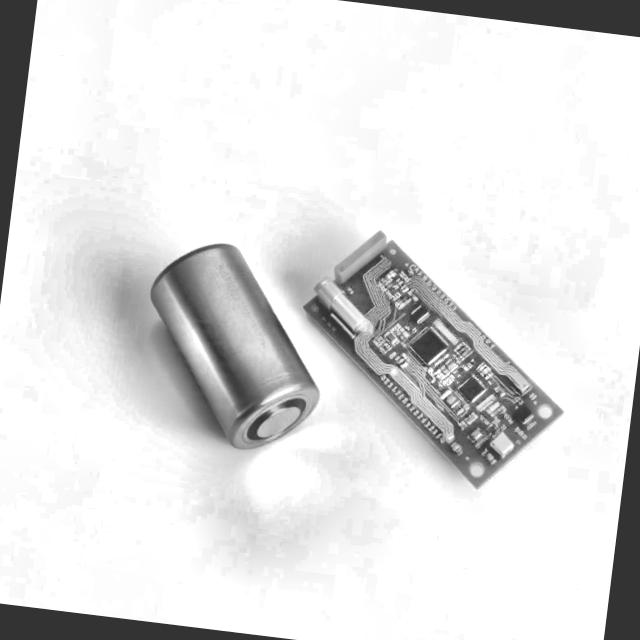Battery: (130, 220, 337, 474)
PCB: (284, 209, 586, 514)
